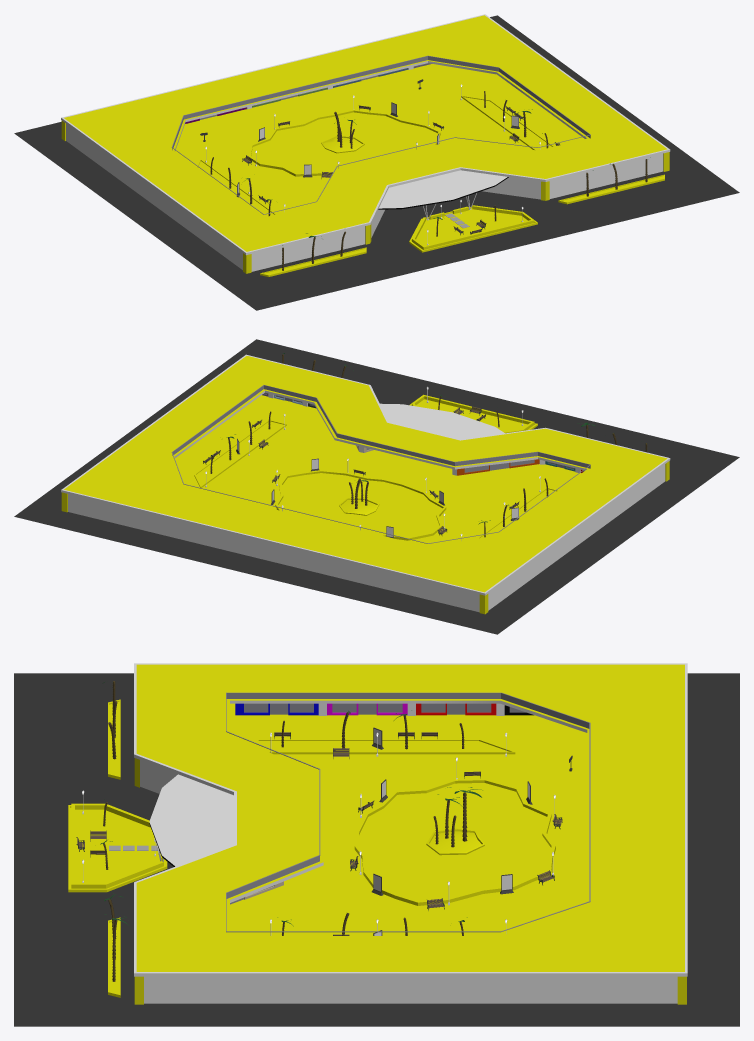
3 views of the same model, one above another, from view 1: azimuth 30°, elevation 25°; view 2: azimuth 150°, elevation 25°; view 3: azimuth 270°, elevation 25° (orthographic). The views are drawn at different scales.
Parts seen in each view (by area): view 1: Paredes, Calle, Suelo1, Decoracion, Techo, Baranda; view 2: Paredes, Calle, Suelo1, Decoracion, Baranda, Techo; view 3: Paredes, Calle, Suelo1, Decoracion, Techo, Baranda.
Part boxes in pixels (x1=…): Paredes: x1=61, y1=14, x2=670, y2=273; Calle: x1=14, y1=15, x2=739, y2=310; Suelo1: x1=175, y1=64, x2=584, y2=214; Decoracion: x1=197, y1=79, x2=664, y2=276; Techo: x1=378, y1=170, x2=508, y2=220; Baranda: x1=171, y1=55, x2=590, y2=214; Paredes: x1=61, y1=354, x2=670, y2=614; Calle: x1=14, y1=339, x2=739, y2=634; Suelo1: x1=175, y1=395, x2=581, y2=546; Decoracion: x1=194, y1=353, x2=647, y2=540; Baranda: x1=171, y1=385, x2=590, y2=543; Techo: x1=380, y1=403, x2=504, y2=439; Paredes: x1=134, y1=663, x2=687, y2=1004; Calle: x1=14, y1=673, x2=739, y2=1026; Suelo1: x1=230, y1=703, x2=587, y2=935; Decoracion: x1=68, y1=678, x2=572, y2=997; Techo: x1=149, y1=774, x2=233, y2=866; Baranda: x1=226, y1=692, x2=590, y2=932.
Size of the model in its own units: 2.17 by 0.1609 by 1.88.
Materials: 42 (6 with a texture image).
